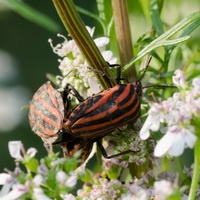insect: (28, 65, 141, 158)
